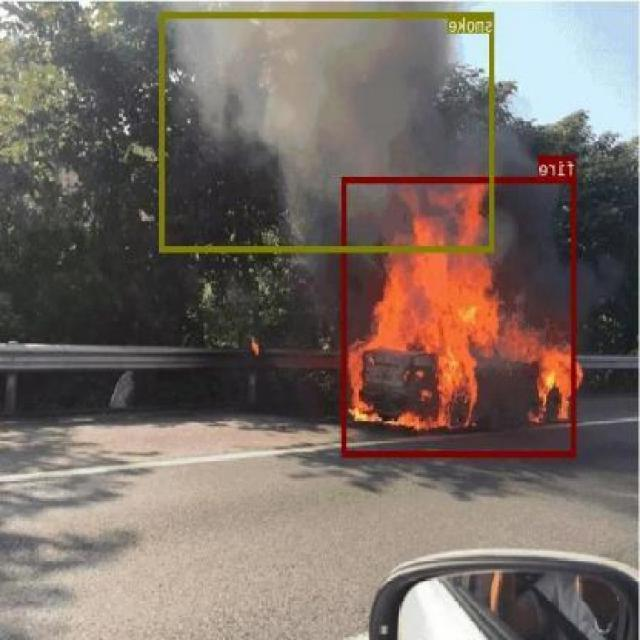Fire: (343, 176, 577, 456)
Smoke: (160, 12, 494, 252)
